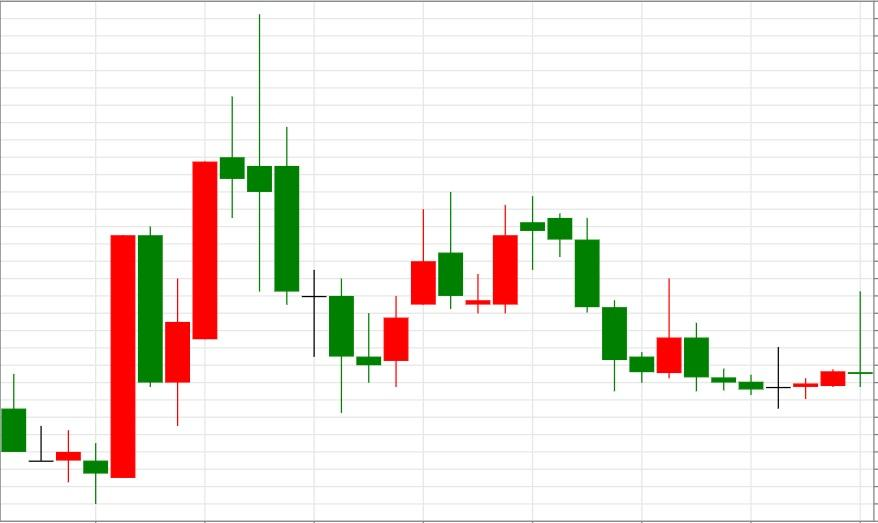three_black_crows_fall: (356, 191, 628, 392)
